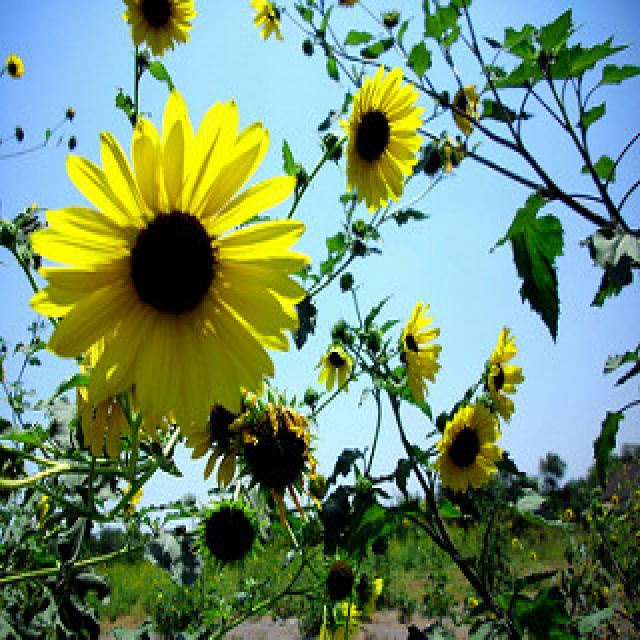sunflower: (36, 101, 314, 451), (334, 56, 426, 227), (222, 392, 320, 491), (426, 400, 506, 504), (398, 294, 456, 414), (114, 3, 210, 61), (484, 331, 532, 426)
